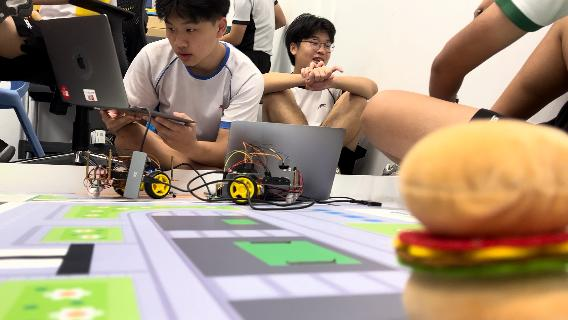burger: (397, 116, 568, 319)
